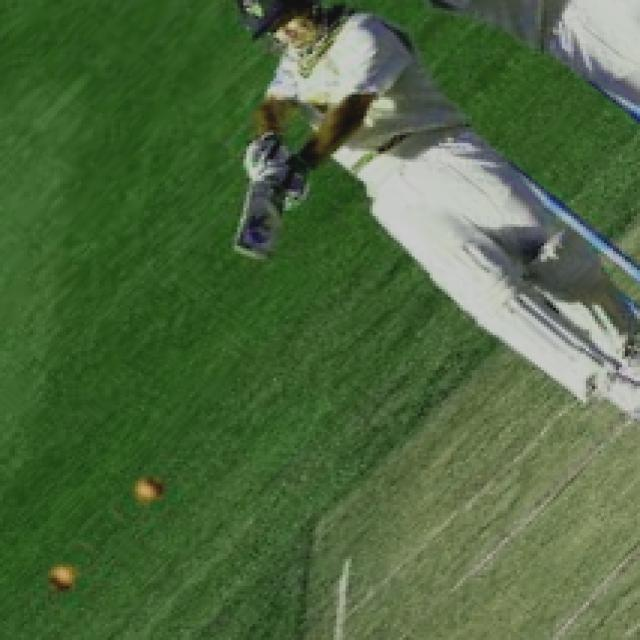toe: (220, 237, 270, 264)
